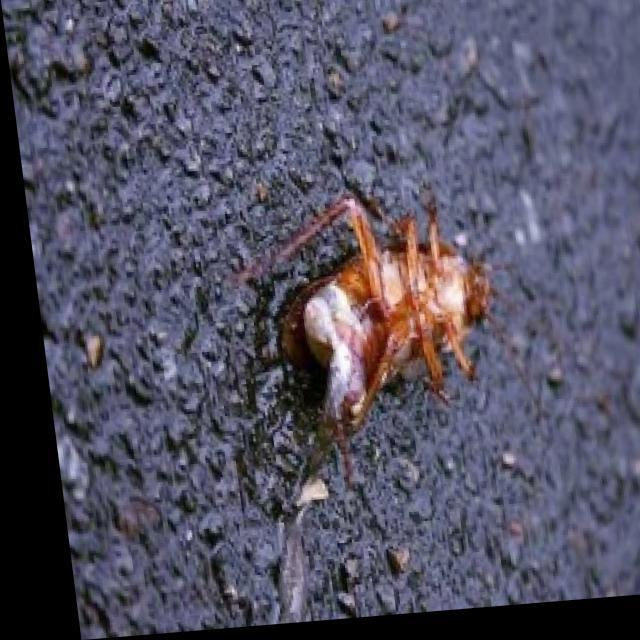cockroach: (227, 183, 498, 491)
